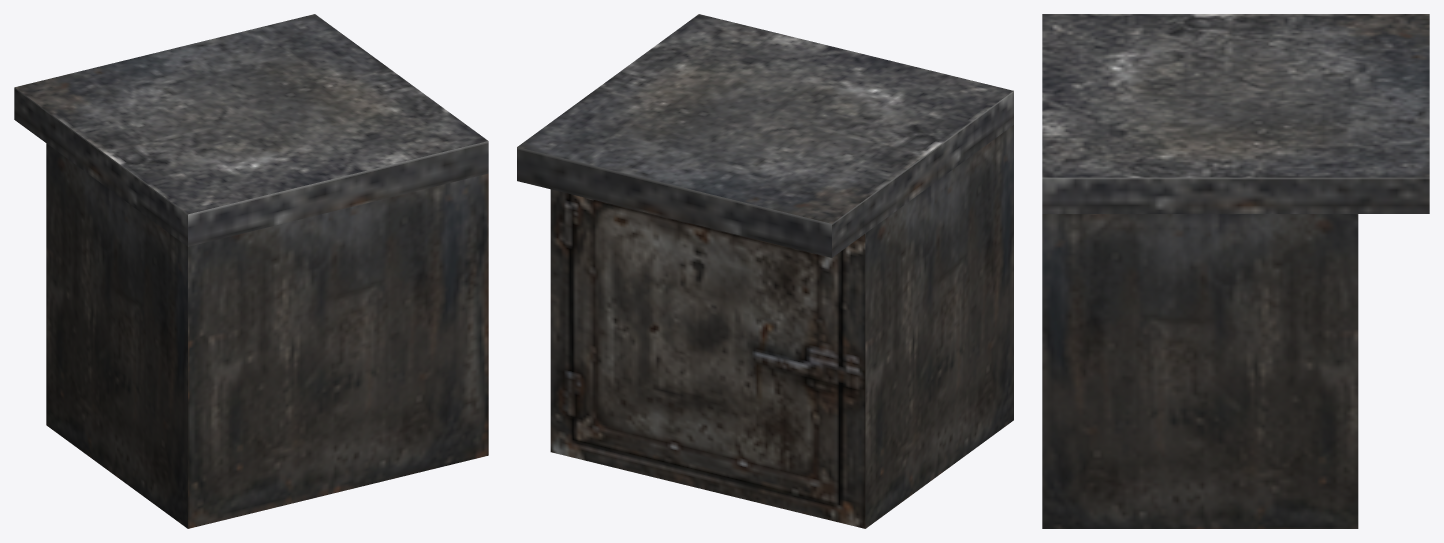
The model's file is counter.fbx.
The picture shows the model from 3 angles, left to right: view 1: azimuth 30°, elevation 25°; view 2: azimuth 150°, elevation 25°; view 3: azimuth 270°, elevation 25°; orthographic projection. The views are drawn at different scales.
Parts seen in each view (by area): view 1: Cube; view 2: Cube; view 3: Cube.
Boxes of the visible parts, box(x1,y1,x2,y2) form: Cube: box(14, 14, 488, 528); Cube: box(517, 14, 1013, 528); Cube: box(1042, 14, 1429, 528).
Size of the model in its own units: 100 by 100 by 100.
1 material, 1 textured.
